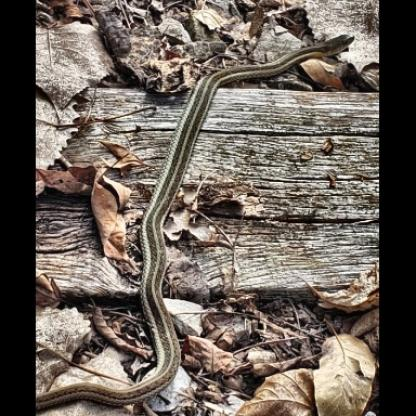Snake: (130, 24, 356, 411)
